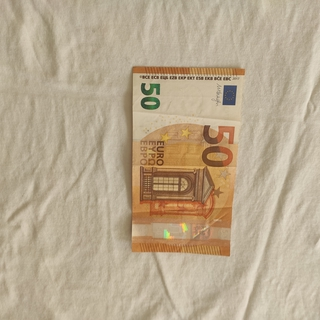50EUROFront: (130, 65, 245, 257)
